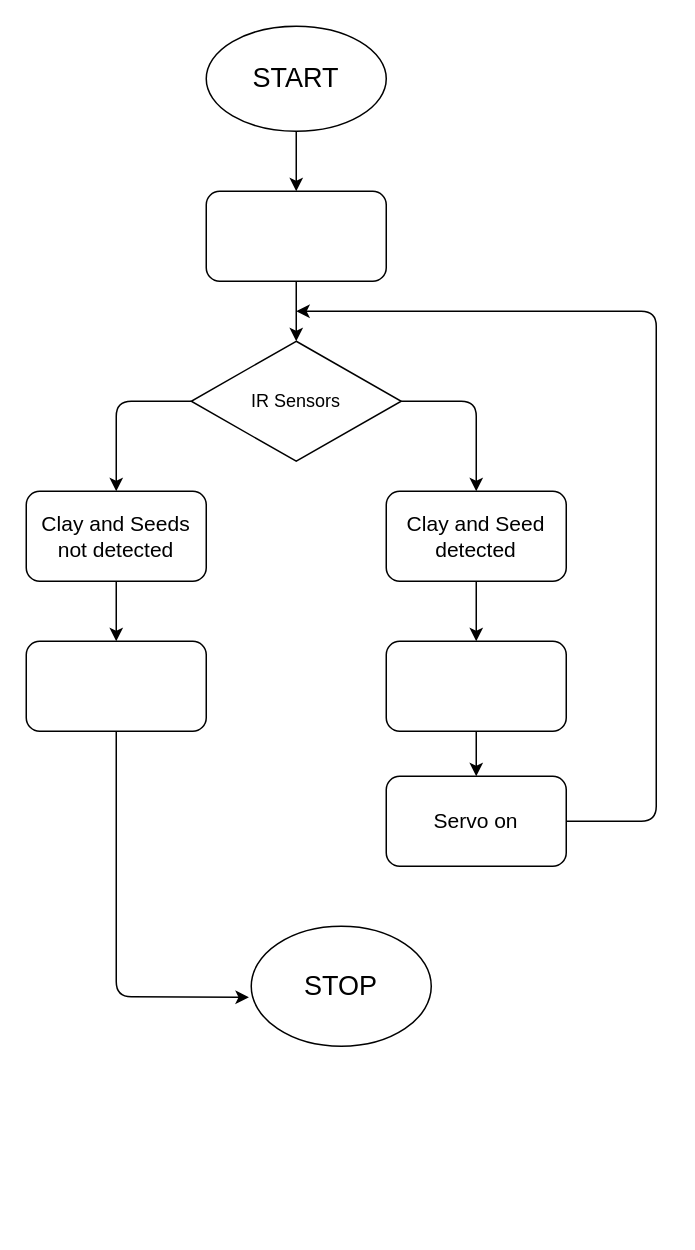
Image size: 695x1250. Some labels were removed from this diagram. The centre of each missing label's shape, as x and y in pixels:
LED glows: the point at 475,685
Servo and LED off: the point at 115,685
SWITCH ON: the point at 295,235
